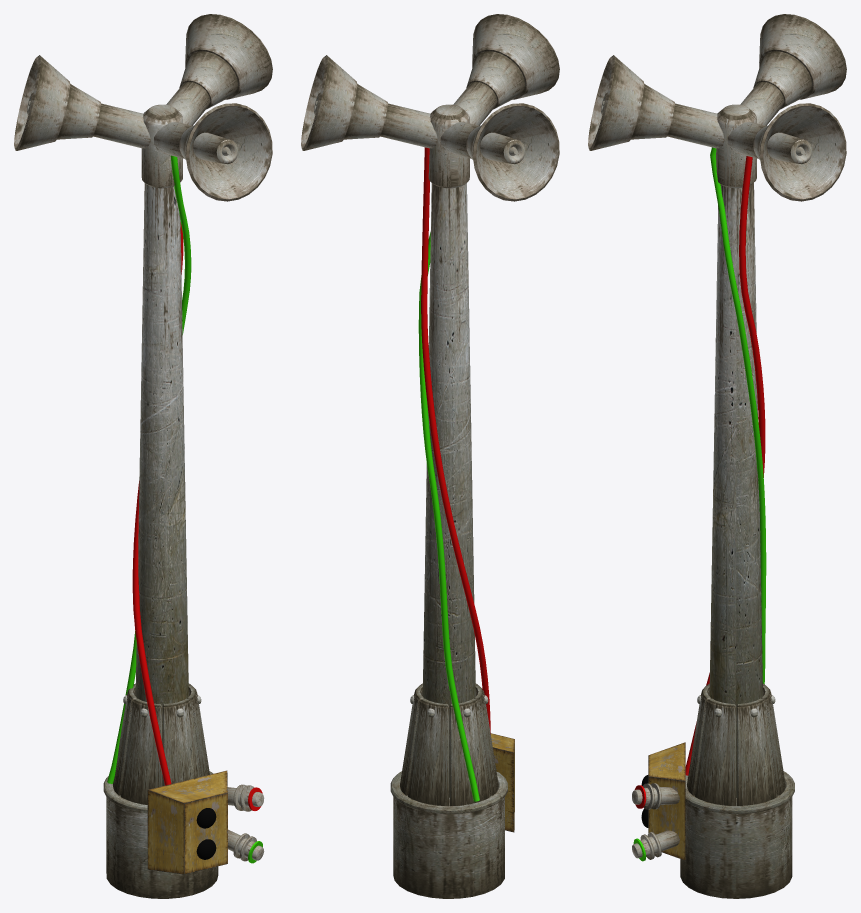
The model's file is static.fbx.
The picture shows the model from 3 angles, left to right: view 1: azimuth 30°, elevation 25°; view 2: azimuth 150°, elevation 25°; view 3: azimuth 270°, elevation 25°; orthographic projection.
Parts seen in each view (by area): view 1: Cylinder_1_3, Cube, Cylinder_3_5, Cylinder, Cylinder_3_9, Cylinder_3_7, Cube_3, Cube_2, Cylinder_2_7, Sweep_1, Cylinder_6, Sweep (+8 smaller); view 2: Cylinder_1_3, Cylinder, Cylinder_3_7, Cylinder_3_5, Sweep_1, Cube_5, Cylinder_3_9, Sweep, Cube_4, Cylinder_2_7, Cylinder_4_3, Cylinder_3_8 (+8 smaller); view 3: Cylinder_1_3, Cylinder, Cylinder_3_9, Cylinder_3_7, Cube_6, Cube_7, Cylinder_3_5, Sweep, Cube, Sweep_1, Cylinder_2_7, Cylinder_5 (+9 smaller).
Boxes of the visible parts, <box> form: Cylinder_1_3: <box>135,183,188,786</box>; Cube: <box>147,770,227,874</box>; Cylinder_3_5: <box>185,103,272,201</box>; Cylinder: <box>106,795,218,898</box>; Cylinder_3_9: <box>185,14,272,99</box>; Cylinder_3_7: <box>14,55,70,150</box>; Cube_3: <box>121,698,161,804</box>; Cube_2: <box>162,698,201,785</box>; Cylinder_2_7: <box>141,104,182,188</box>; Sweep_1: <box>132,222,183,785</box>; Cylinder_6: <box>179,51,237,109</box>; Sweep: <box>107,155,191,783</box>; Cylinder_1_3: <box>422,183,475,797</box>; Cylinder: <box>393,795,504,898</box>; Cylinder_3_7: <box>472,103,559,201</box>; Cylinder_3_5: <box>472,14,559,99</box>; Sweep_1: <box>421,147,490,734</box>; Cube_5: <box>408,698,448,805</box>; Cylinder_3_9: <box>301,55,357,150</box>; Sweep: <box>418,232,479,801</box>; Cube_4: <box>449,698,490,805</box>; Cylinder_2_7: <box>428,104,469,188</box>; Cylinder_4_3: <box>466,51,524,109</box>; Cylinder_3_8: <box>380,103,437,148</box>; Cylinder_1_3: <box>709,183,762,797</box>; Cylinder: <box>680,795,792,898</box>; Cylinder_3_9: <box>759,103,846,201</box>; Cylinder_3_7: <box>759,14,846,99</box>; Cube_6: <box>736,698,777,805</box>; Cube_7: <box>695,698,735,805</box>; Cylinder_3_5: <box>588,55,644,150</box>; Sweep: <box>710,147,766,683</box>; Cube: <box>648,742,685,860</box>; Sweep_1: <box>685,156,765,775</box>; Cylinder_2_7: <box>716,104,756,188</box>; Cylinder_5: <box>753,51,811,109</box>.
Size of the model in its own units: 224 by 700 by 201.
8 materials, 8 textured.
